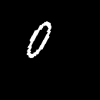chain: (27, 22, 50, 57)
